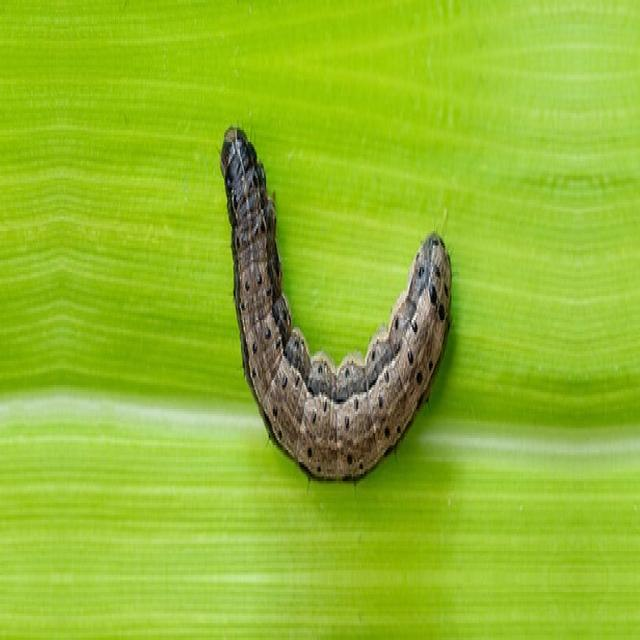armyworm: (219, 123, 452, 481)
